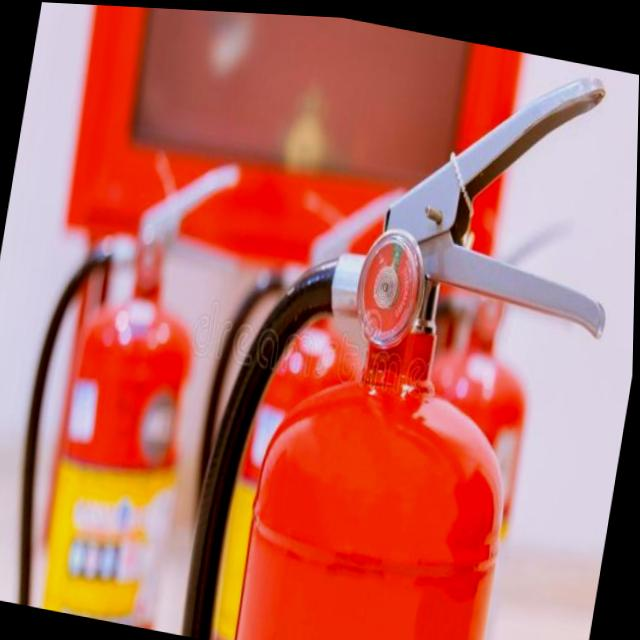FireExtinguisher: (174, 8, 640, 640), (0, 119, 241, 632)
